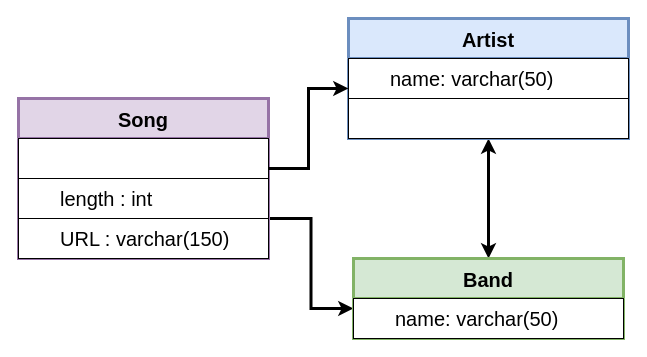
Some shapes in this 647 by 357 pixel diagram are drawn without their labels. The shapes that lost their labels are listed below. From the top down, each one's centre as x and y in pixels, then its label:
At (488,118): "nationality:varchar(50)".
At (143,158): "name : varchar(100)".
